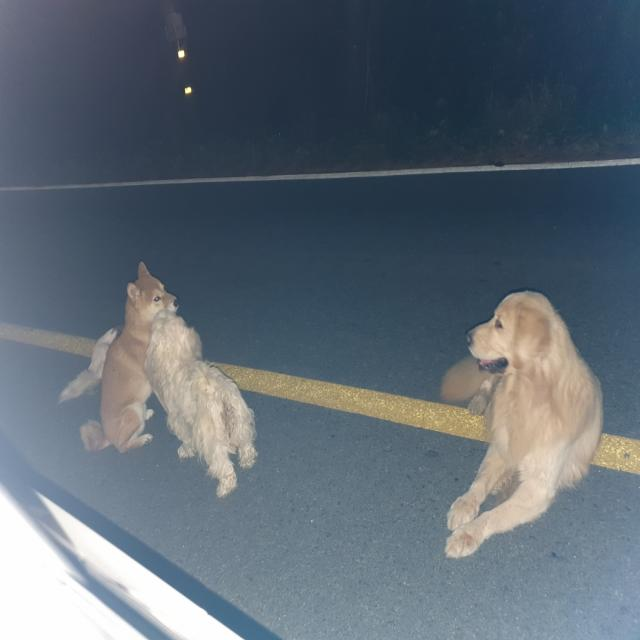dog: (412, 266, 608, 582), (124, 296, 270, 491), (83, 245, 195, 475)
